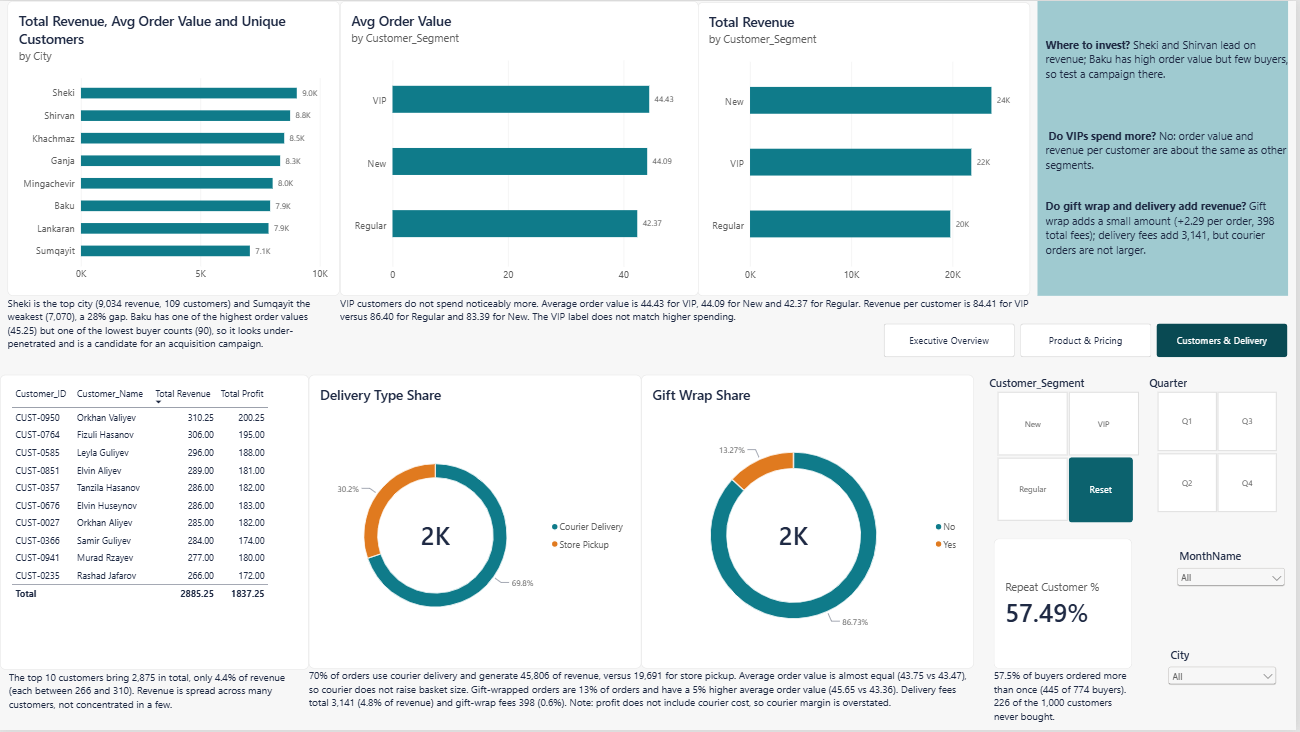

Layout of this report page (visuals, bound fields, positions):
{"tool":"powerbi","page":{"name":"Customers & Delivery","canvas":[1920,1080],"ordinal":2},"visuals":[{"type":"clusteredBarChart","fields":{"Category":["Dim_Customers.City"],"Y":["_Measures.Total Revenue"]},"box":[10.5,0,492,436.6],"z":0},{"type":"clusteredBarChart","fields":{"Category":["Dim_Customers.Customer_Segment"],"Y":["_Measures.Total Revenue"]},"box":[1034,1.7,492.6,435.2],"z":1000},{"type":"clusteredBarChart","fields":{"Category":["Dim_Customers.Customer_Segment"],"Y":["_Measures.Avg Order Value"]},"box":[503.1,0,530.9,436.9],"z":2000},{"type":"tableEx","fields":{"Values":["Dim_Customers.Customer_ID","Dim_Customers.Customer_Name","_Measures.Total Revenue","_Measures.Total Profit"]},"box":[0,553.3,457.6,436.6],"z":3000},{"type":"donutChart","title":"Delivery Type Share","fields":{"Category":["Fact_Sales.Delivery_Type"],"Y":["_Measures.Total Orders"]},"box":[457.8,553.5,492.6,435.2],"z":4000},{"type":"donutChart","title":"Gift Wrap Share","fields":{"Category":["Fact_Sales.Gift_Wrap"],"Y":["_Measures.Total Orders"]},"box":[950.4,553.5,492.6,435.2],"z":5000},{"type":"cardVisual","title":"Repeat Customer %","fields":{"Data":["_Measures.Repeat Customer %"]},"box":[1472.6,795.5,205.4,193.2],"z":6000},{"type":"textbox","box":[10.5,436.6,481.5,91.2],"z":7000},{"type":"textbox","box":[503.1,436.9,1023.5,102.7],"z":8000},{"type":"textbox","box":[13.5,989.9,432.1,73.3],"z":9000},{"type":"textbox","box":[457.8,988.7,985.2,90.5],"z":10000},{"type":"textbox","box":[1472.6,988.7,205.4,90.5],"z":11000},{"type":"textbox","box":[1537.1,0,371.4,437.1],"z":12000},{"type":"slicer","fields":{"Values":["Dim_Date.Quarter"]},"box":[1693.7,553.5,215.8,205.4],"z":13000},{"type":"slicer","fields":{"Values":["Dim_Date.MonthName"]},"box":[1739,811.2,169.9,118.5],"z":14000},{"type":"slicer","fields":{"Values":["Dim_Customers.City"]},"box":[1726.8,957.4,169.9,106.7],"z":15000},{"type":"slicer","fields":{"Values":["Dim_Customers.Customer_Segment"]},"box":[1456.7,553.3,248.3,218.3],"z":16000},{"type":"actionButton","box":[1583.3,675,95,96.7],"z":17000},{"type":"pageNavigator","box":[1308.3,478.3,600,50],"z":18000}]}

Visuals, with their boxes in screenshot pixels (x1, y1, x2, y2), scaled from the page's 1920x1080 canvas onto the 1300x732 screenshot:
clusteredBarChart - Dim_Customers.City x _Measures.Total Revenue: 7/0/340/296
clusteredBarChart - Dim_Customers.Customer_Segment x _Measures.Total Revenue: 700/1/1034/296
clusteredBarChart - Dim_Customers.Customer_Segment x _Measures.Avg Order Value: 341/0/700/296
tableEx - Dim_Customers.Customer_ID x Dim_Customers.Customer_Name: 0/375/310/671
"Delivery Type Share" donutChart: 310/375/644/670
"Gift Wrap Share" donutChart: 644/375/977/670
"Repeat Customer %" cardVisual: 997/539/1136/670
textbox: 7/296/333/358
textbox: 341/296/1034/366
textbox: 9/671/302/721
textbox: 310/670/977/731
textbox: 997/670/1136/731
textbox: 1041/0/1292/296
slicer - Dim_Date.Quarter: 1147/375/1293/514
slicer - Dim_Date.MonthName: 1177/550/1292/630
slicer - Dim_Customers.City: 1169/649/1284/721
slicer - Dim_Customers.Customer_Segment: 986/375/1154/523
actionButton: 1072/458/1136/523
pageNavigator: 886/324/1292/358
